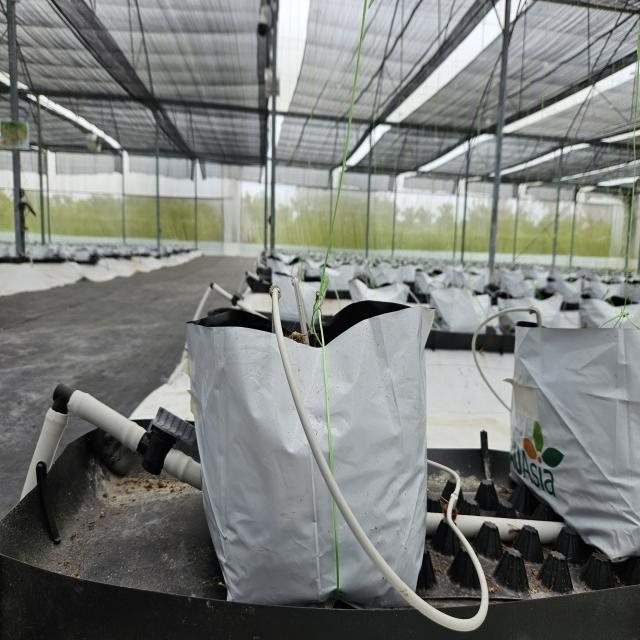Obstacle: (270, 290, 490, 634)
Soilbag: (183, 290, 424, 607)
